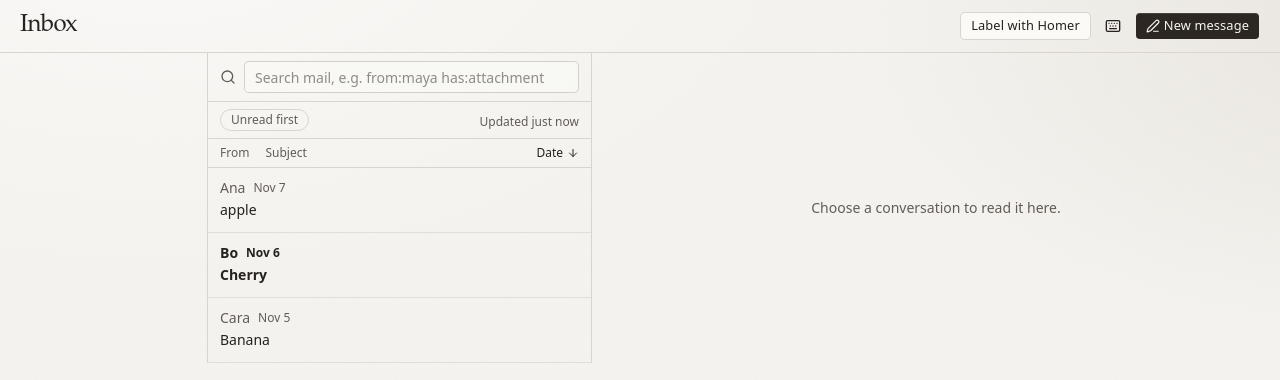
InboxPage URL and sorting › sorts by a clicked column, flips it, and puts unread first
Later steps or results of the test are not shown.
Expected: the text "Banana" is shown, [220, 330, 270, 350]
Click the button with test id "sort-from". click: [235, 153]
box: [216, 143, 253, 163]
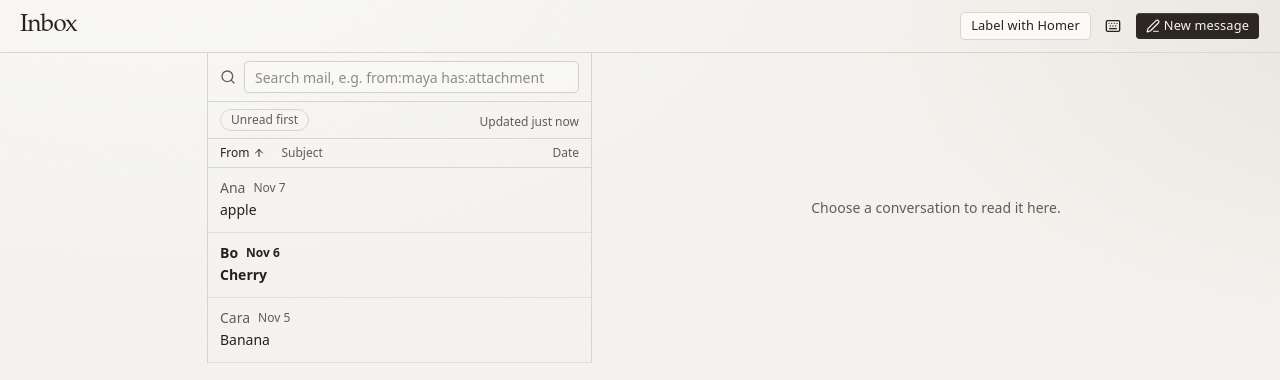
Click the button with test id "sort-subject". click: [302, 153]
box: [277, 143, 327, 163]
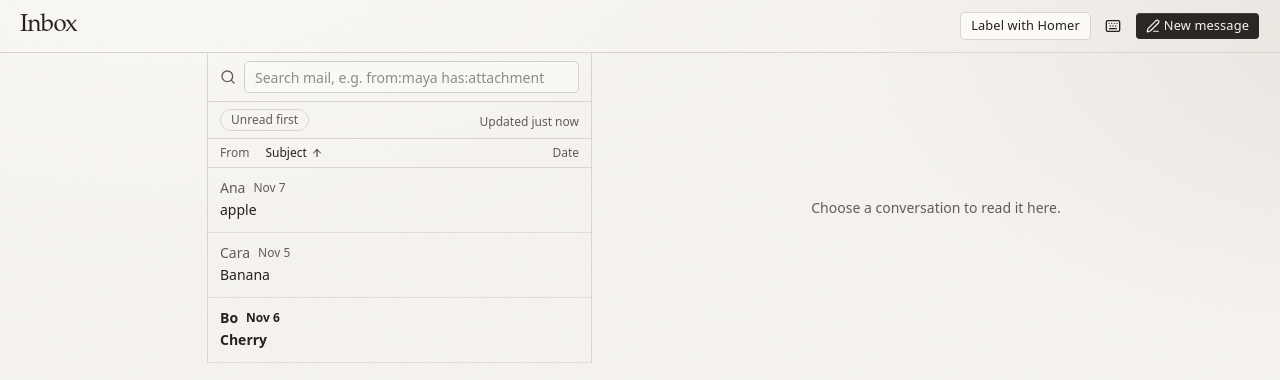
Click the button with test id "sort-subject". click: [294, 153]
box: [261, 143, 327, 163]
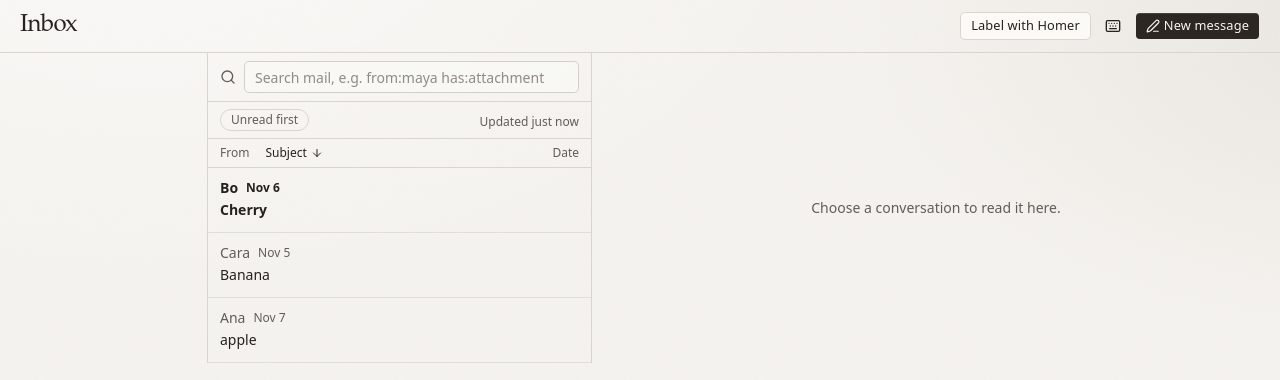
Now the button with test id "sort-subject" has attribute data-direction="desc", box [261, 143, 327, 163]
